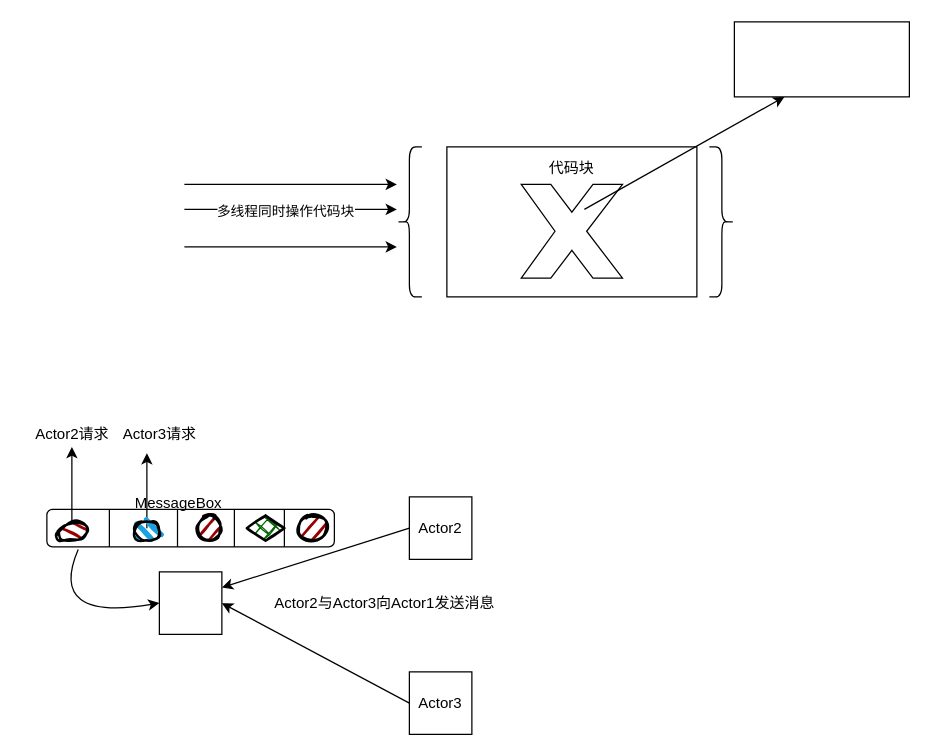
The diagram is 931 pixels wide and 756 high, and some of its shapes have lost their labels. Here are the shapes that lost their labels. From the top down, the centre of each, then its label:
At (821,59): "引入锁的机制保护资源，防止多个资源访问同一资源引起数据竞争".
At (190,602): "Actor1".
